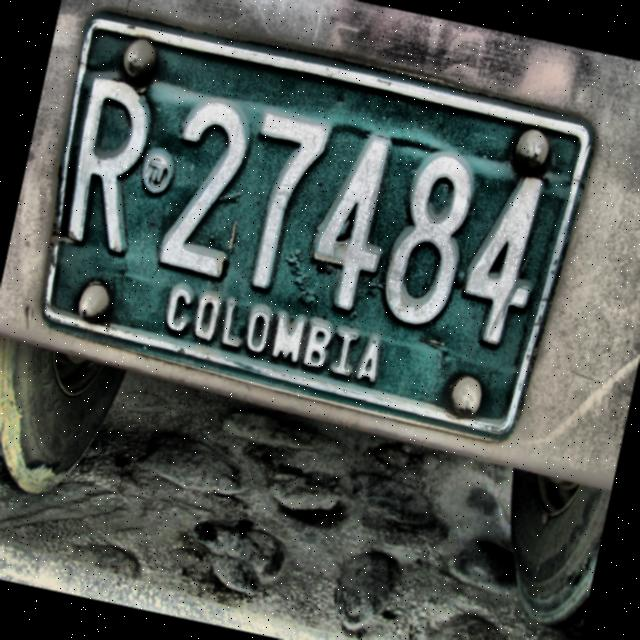2: (150, 91, 263, 286)
4: (298, 120, 411, 322), (448, 162, 559, 364)
7: (225, 103, 336, 303)
8: (373, 139, 485, 342)
R: (59, 71, 162, 264)
